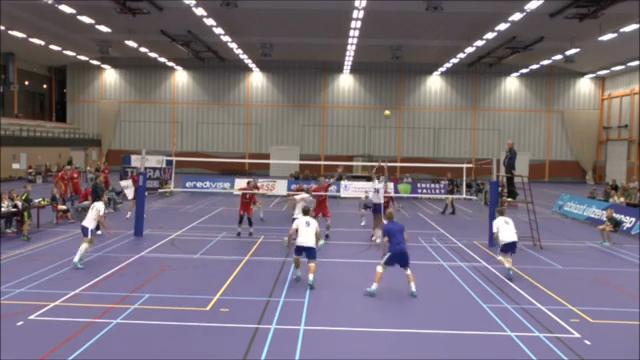alzata: (366, 158, 390, 243)
